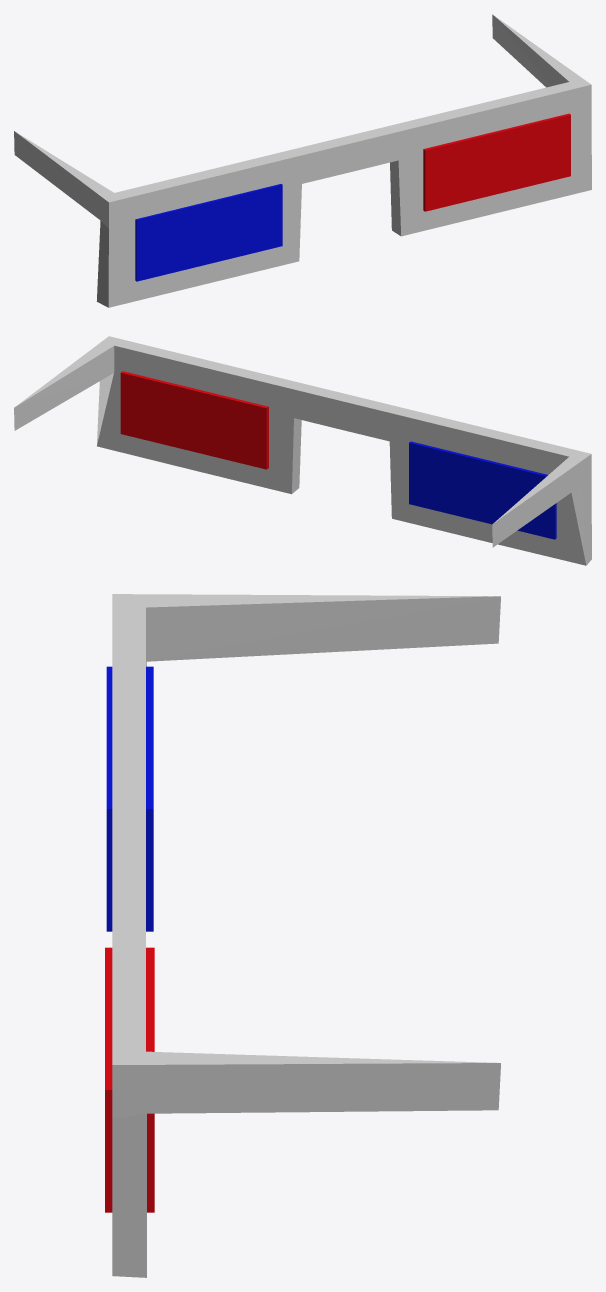
File: 3DGlasses.fbx
The picture shows the model from 3 angles, top to bottom: view 1: azimuth 30°, elevation 25°; view 2: azimuth 150°, elevation 25°; view 3: azimuth 270°, elevation 25°; orthographic projection. The views are drawn at different scales.
Parts seen in each view (by area): view 1: Cube, Cube.001, Cube.002; view 2: Cube, Cube.003, Cube.004; view 3: Cube, Cube.004, Cube.001, Cube.002, Cube.003.
Part boxes in pixels (x1,y1,x2,y2): Cube: (14, 14, 591, 307); Cube.001: (423, 113, 570, 211); Cube.002: (135, 184, 282, 281); Cube: (14, 336, 591, 565); Cube.003: (120, 371, 268, 469); Cube.004: (409, 441, 556, 539); Cube: (112, 594, 500, 1277); Cube.004: (146, 666, 153, 931); Cube.001: (105, 947, 112, 1212); Cube.002: (106, 666, 112, 931); Cube.003: (146, 947, 154, 1212).
Size of the model in its own units: 68.95 by 14.17 by 24.16.
